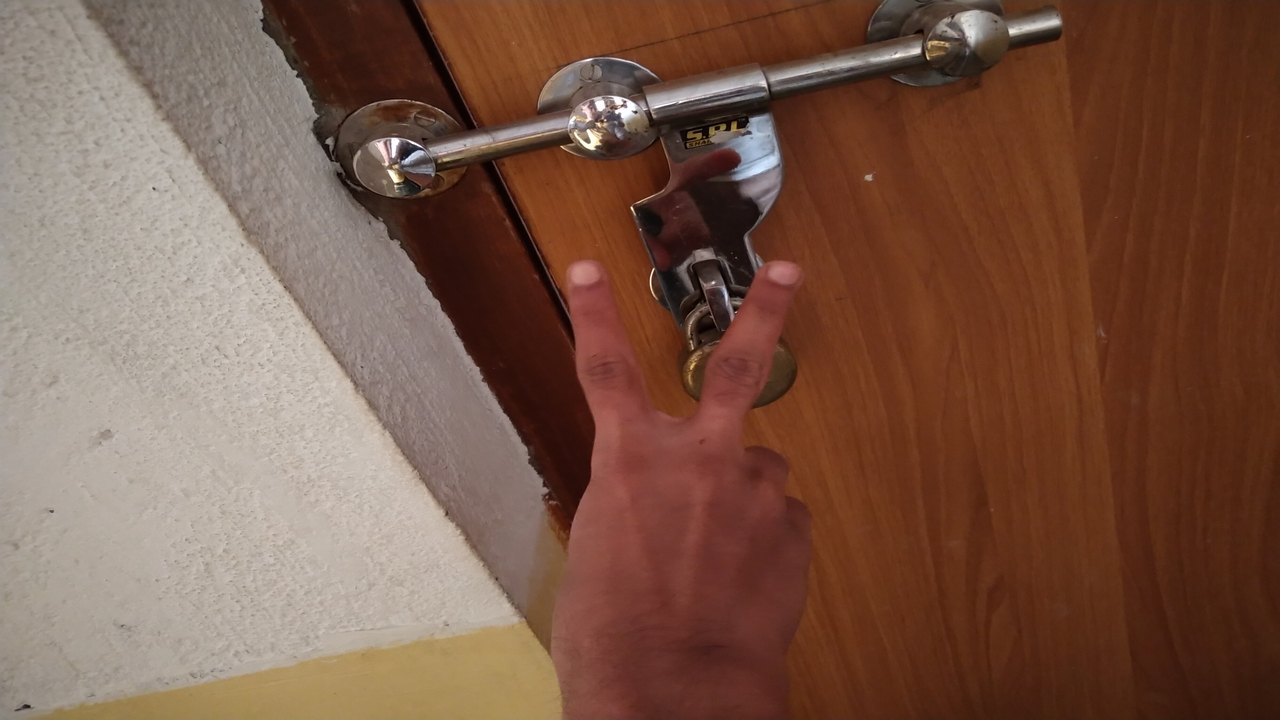fingertip: (752, 250, 814, 304), (566, 247, 610, 303)
